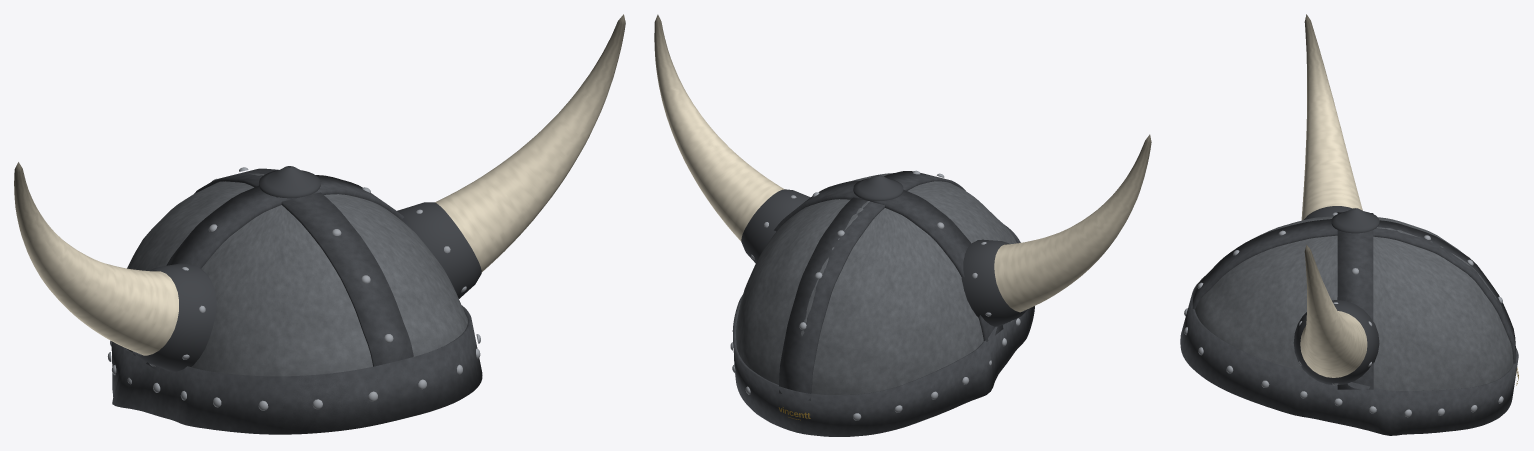
Rendered from vincentt-viking-helmet.glb.
The picture shows the model from 3 angles, left to right: view 1: azimuth 30°, elevation 25°; view 2: azimuth 150°, elevation 25°; view 3: azimuth 270°, elevation 25°; orthographic projection. The views are drawn at different scales.
Visible parts, largest first — view 1: viking_dome, viking_brow_band, viking_cross_band_mesh, viking_horn_right, viking_horn_left, viking_collar_left, viking_collar_right, viking_boss, viking_brow_rivets; view 2: viking_dome, viking_brow_band, viking_cross_band_mesh, viking_horn_left, viking_horn_right, viking_collar_left, viking_collar_right, viking_boss; view 3: viking_dome, viking_brow_band, viking_cross_band_mesh, viking_horn_left, viking_horn_right, viking_collar_right, viking_boss, viking_brow_rivets, viking_collar_left.
Part boxes in pixels (left/top/right/bottom): viking_dome: left=126, top=173, right=467, bottom=376; viking_brow_band: left=111, top=305, right=482, bottom=434; viking_cross_band_mesh: left=133, top=168, right=413, bottom=372; viking_horn_right: left=435, top=14, right=625, bottom=272; viking_horn_left: left=14, top=162, right=178, bottom=355; viking_collar_left: left=132, top=263, right=216, bottom=371; viking_collar_right: left=397, top=202, right=481, bottom=298; viking_boss: left=259, top=166, right=320, bottom=198; viking_brow_rivets: left=107, top=334, right=480, bottom=410; viking_dome: left=736, top=173, right=1016, bottom=394; viking_brow_band: left=732, top=224, right=1034, bottom=436; viking_cross_band_mesh: left=774, top=171, right=1003, bottom=400; viking_horn_left: left=994, top=134, right=1151, bottom=312; viking_horn_right: left=654, top=14, right=784, bottom=241; viking_collar_left: left=961, top=239, right=1027, bottom=326; viking_collar_right: left=741, top=189, right=810, bottom=263; viking_boss: left=853, top=175, right=903, bottom=200; viking_dome: left=1195, top=216, right=1513, bottom=390; viking_brow_band: left=1180, top=282, right=1518, bottom=435; viking_cross_band_mesh: left=1192, top=212, right=1516, bottom=389; viking_horn_left: left=1301, top=14, right=1362, bottom=220; viking_horn_right: left=1300, top=245, right=1367, bottom=377; viking_collar_right: left=1293, top=300, right=1379, bottom=385; viking_boss: left=1331, top=208, right=1379, bottom=233; viking_brow_rivets: left=1184, top=308, right=1503, bottom=417; viking_collar_left: left=1304, top=206, right=1352, bottom=219.
Bounding box in the file's own units: 0.3433 × 0.1869 × 0.2118.
6 materials, 4 textured.
